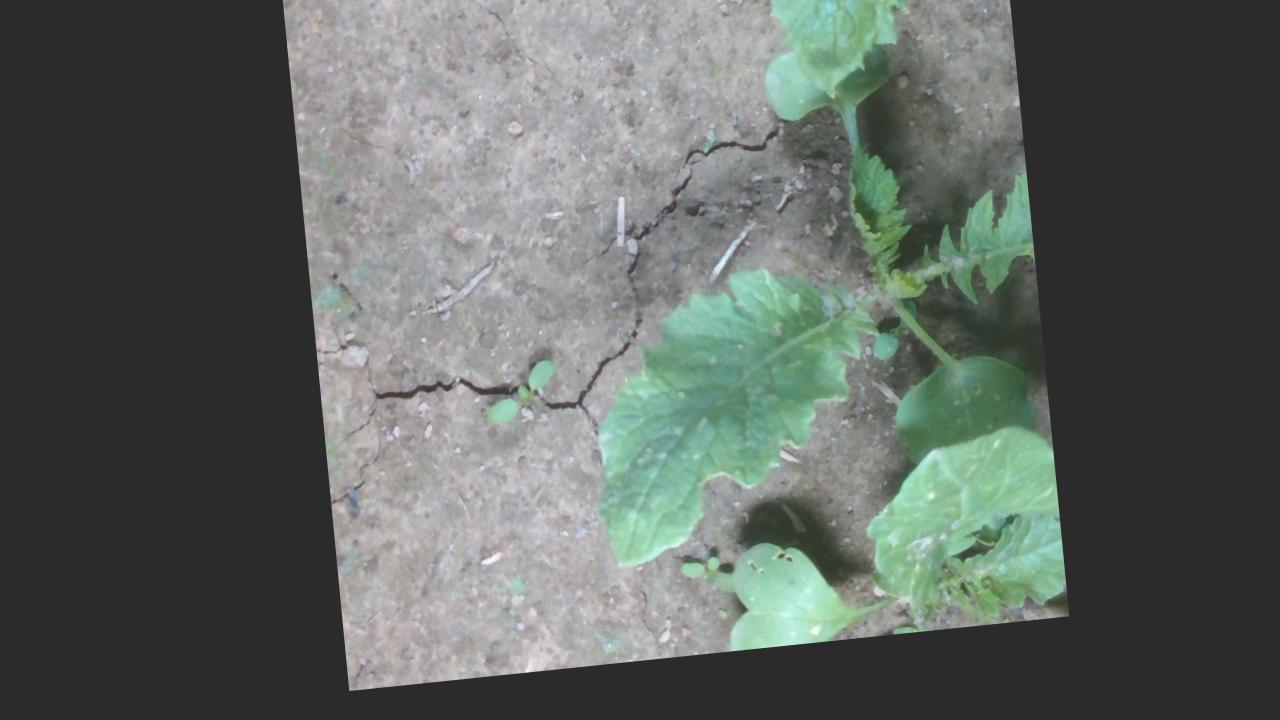weed: (472, 369, 548, 439)
